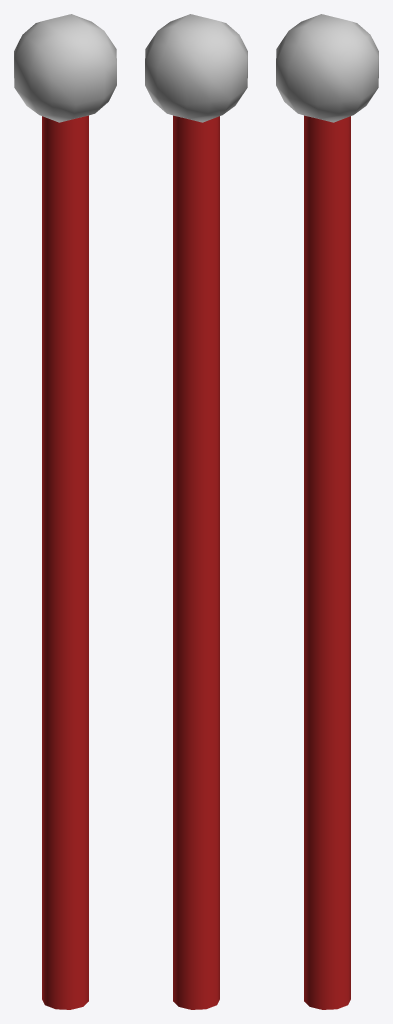
The model's file is POLE.fbx.
The picture shows the model from 3 angles, left to right: view 1: azimuth 30°, elevation 25°; view 2: azimuth 150°, elevation 25°; view 3: azimuth 330°, elevation 25°; orthographic projection.
Visible parts, largest first — view 1: Sphere; view 2: Sphere; view 3: Sphere.
Part boxes in pixels (<box>): Sphere: <box>14,14,116,1009</box>; Sphere: <box>145,14,247,1009</box>; Sphere: <box>276,14,378,1009</box>.
Bounding box in the file's own units: 49.99 × 544 × 49.99.
